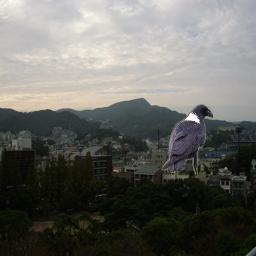Crow: (162, 104, 213, 178)
